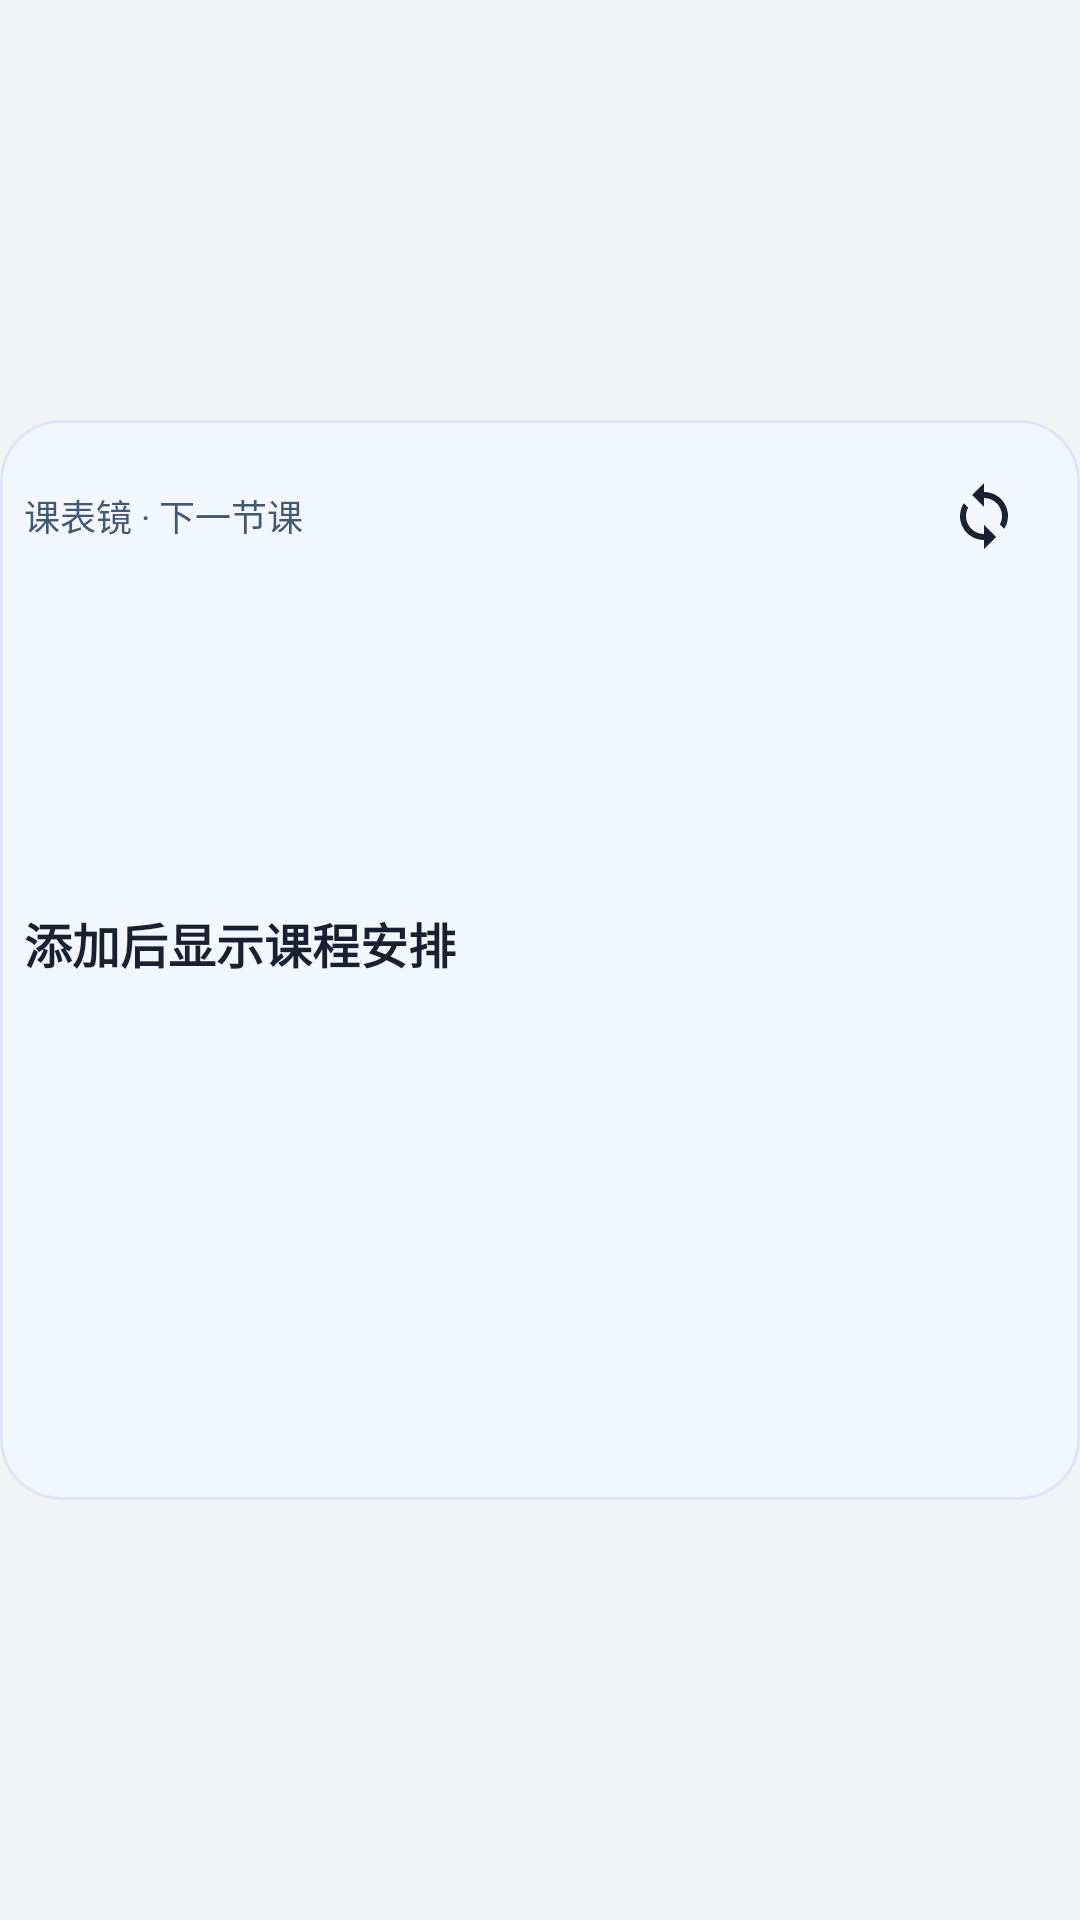

Screen size 1080px×1920px. Icon name, then its center in pixels as point (x, y):
刷新桌面课表: point (984, 516)
